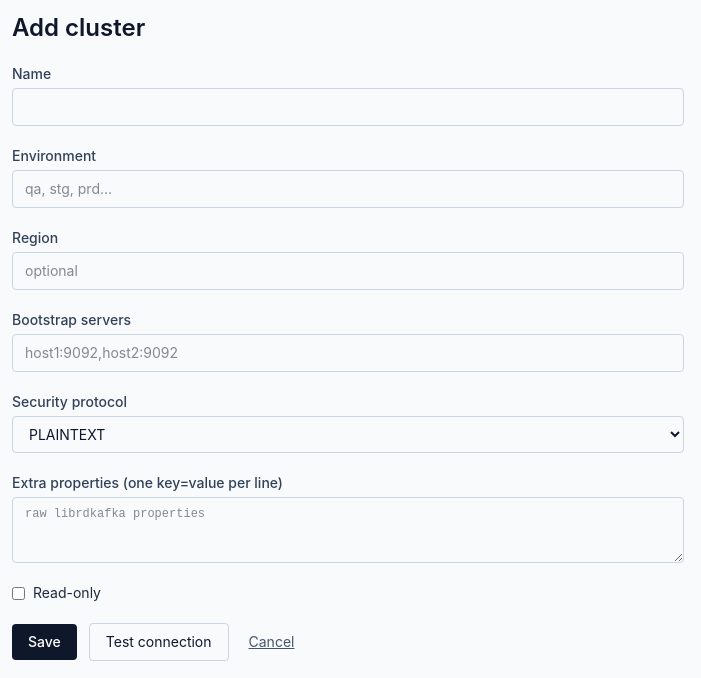
Test: ClusterForm test connection › clears a stale "Connection OK" once the bootstrap servers is changed
Type "dev" into the field labelled "Name" at x=348, y=107, box [12, 88, 684, 126]
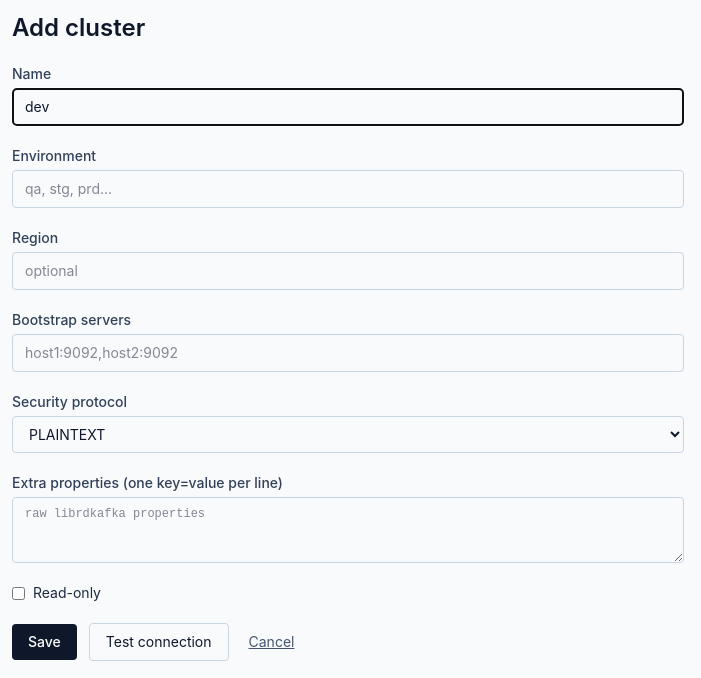
Type "dev" into the field labelled "Environment" at x=348, y=189, box [12, 170, 684, 208]
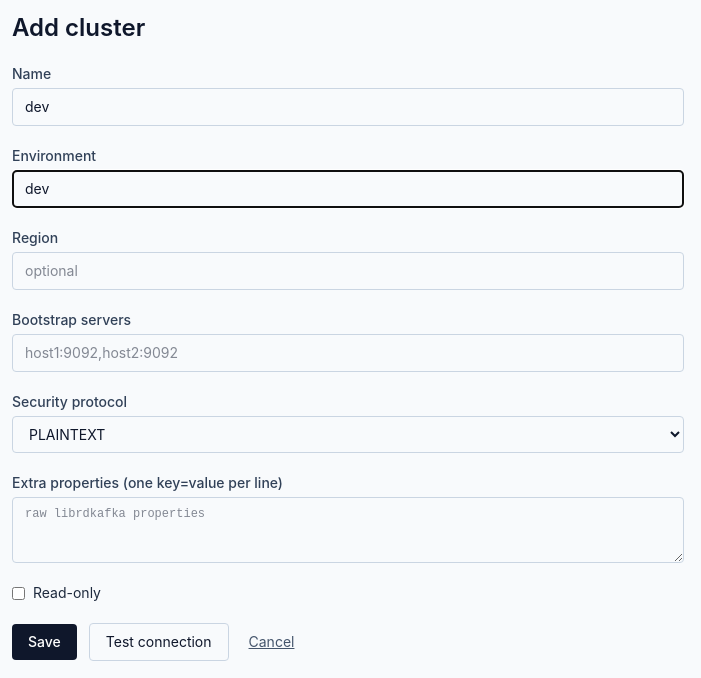
Type "localhost:9092" into the field labelled "Bootstrap servers" at x=348, y=353, box [12, 334, 684, 372]
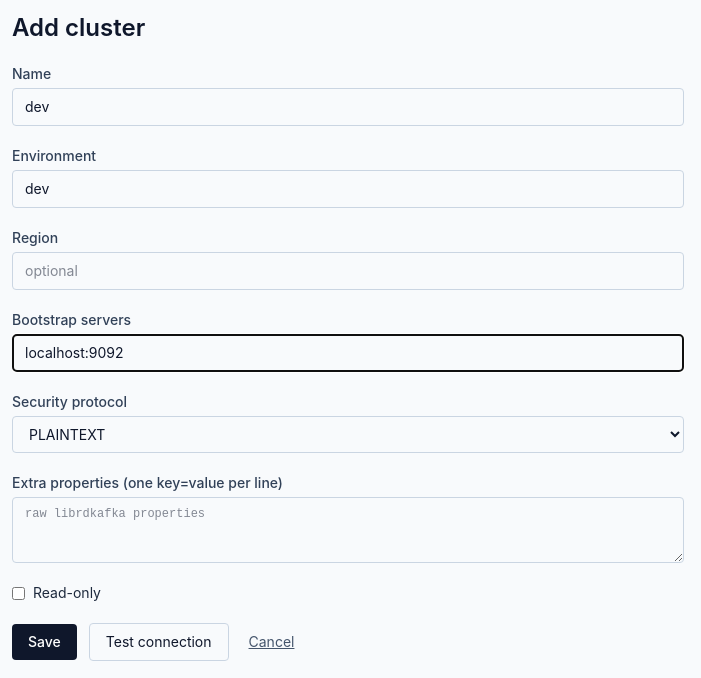
Click the button "Test connection" at x=159, y=642, box [89, 623, 229, 661]
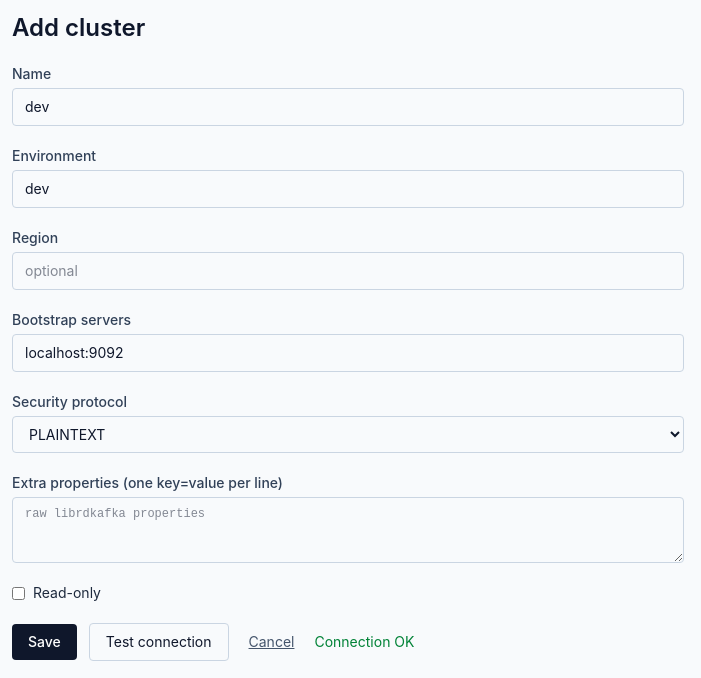
Check: the text "Connection OK" is shown, box [314, 633, 414, 650]
Type "2" into the field labelled "Bootstrap servers" at x=348, y=353, box [12, 334, 684, 372]
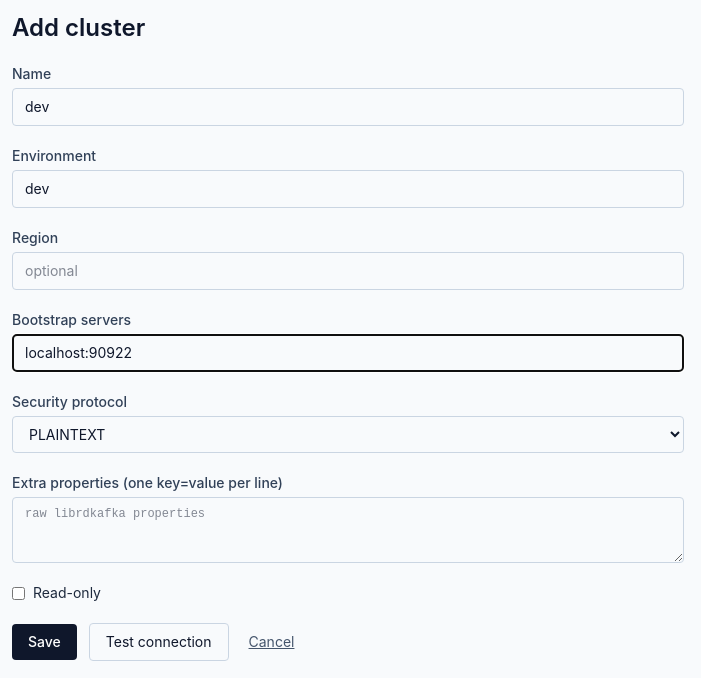
Check: the text "Connection OK" is gone
